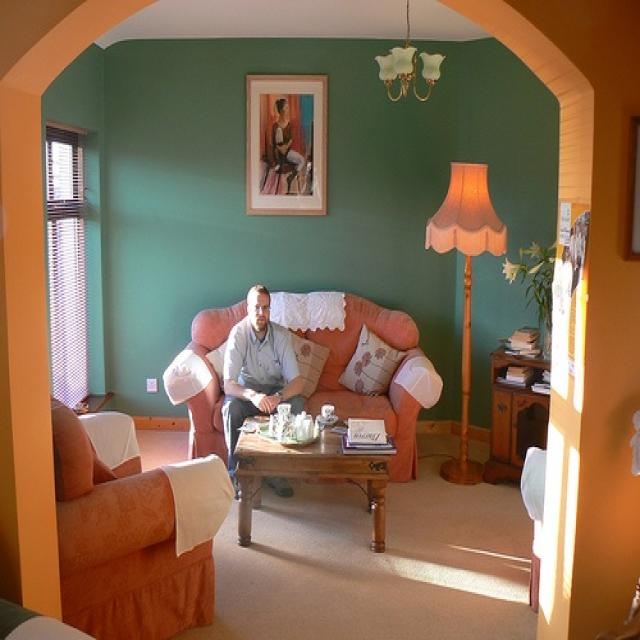chair: (51, 388, 241, 634)
sofa: (158, 282, 446, 496)
